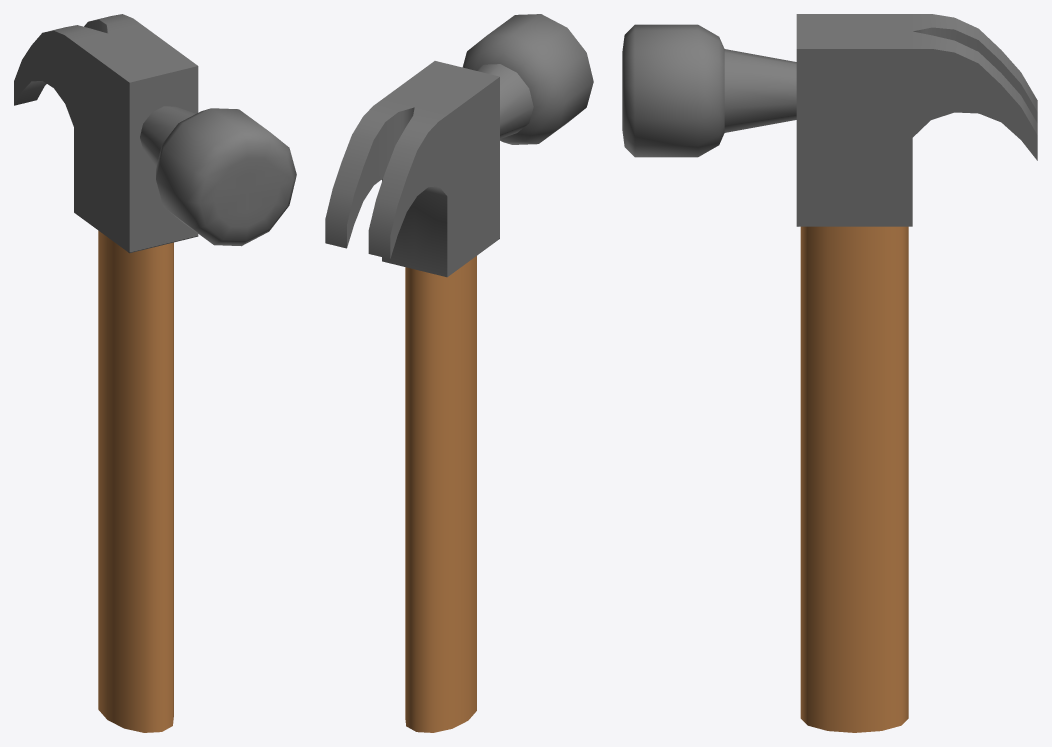
The model's file is Hammer_V1 (1).fbx.
The picture shows the model from 3 angles, left to right: view 1: azimuth 30°, elevation 25°; view 2: azimuth 150°, elevation 25°; view 3: azimuth 270°, elevation 25°; orthographic projection. The views are drawn at different scales.
Visible parts, largest first — view 1: Hammer; view 2: Hammer; view 3: Hammer.
Boxes of the visible parts, <box> form: Hammer: <box>14,14,296,732</box>; Hammer: <box>325,14,593,732</box>; Hammer: <box>622,14,1037,732</box>.
Size of the model in its own units: 5.96 by 33.94 by 18.56.
